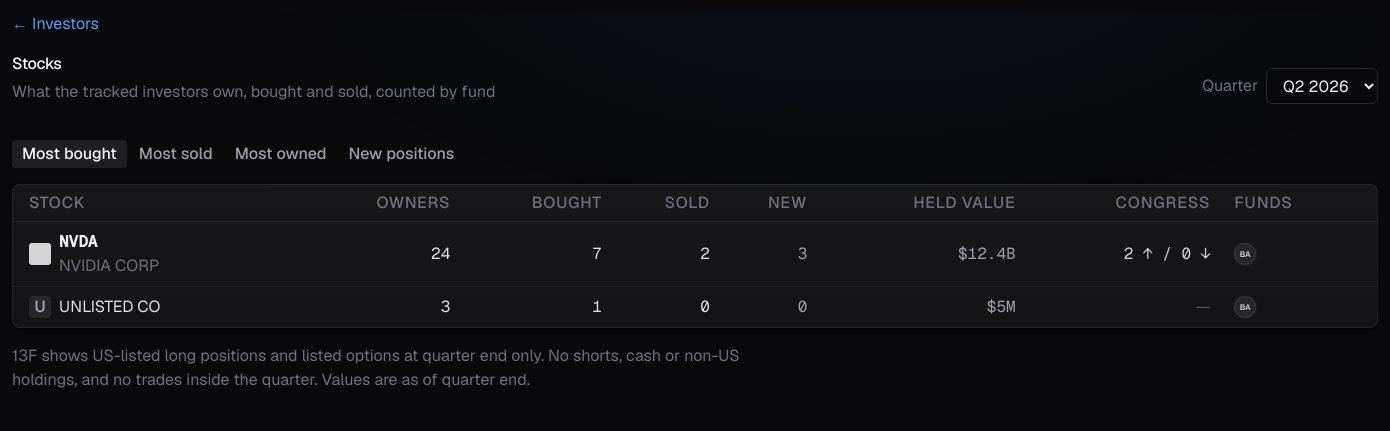
it: InvestorStocks › switches quarter through the URL
Select "Q1 2026" in the dropdown labelled "Quarter" at (1322, 86), box [1266,68,1378,104]
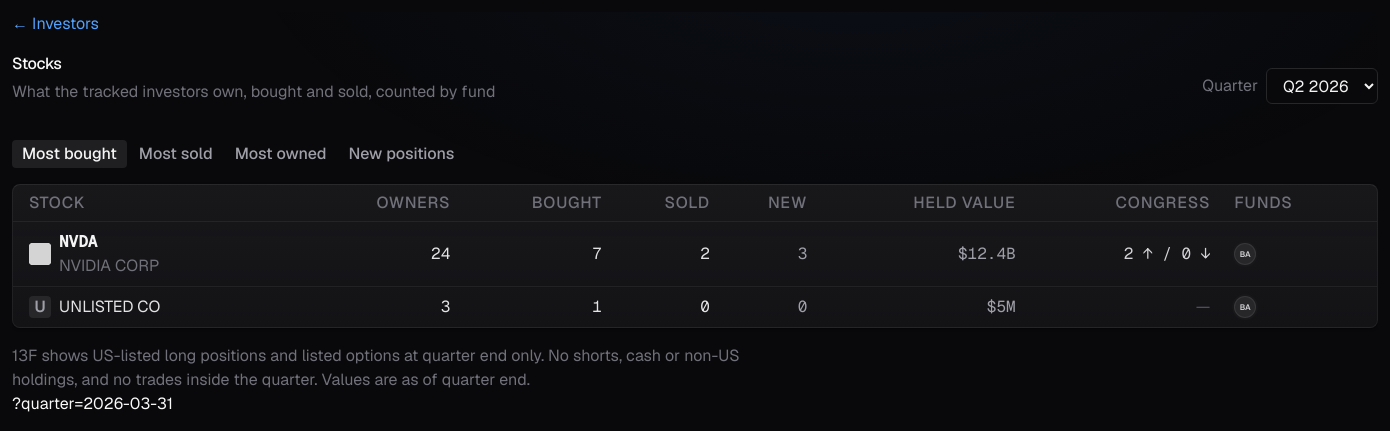
expect the text with test id "where" reads "?quarter=2026-03-31": met, box [12,393,173,414]
